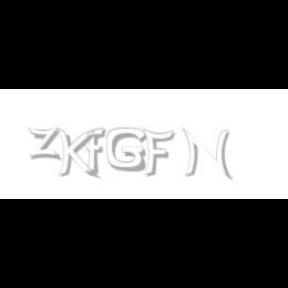F: (142, 128, 174, 178)
G: (106, 128, 146, 172)
K: (56, 128, 96, 180)
N: (182, 128, 230, 180)
f: (85, 128, 109, 174)
z: (27, 128, 63, 160)
